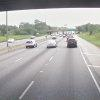Bridge: (1, 1, 98, 13)
